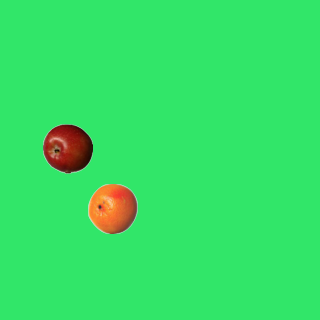Apple Braeburn: (42, 123, 92, 173)
Grapefruit Pink: (87, 183, 137, 233)
